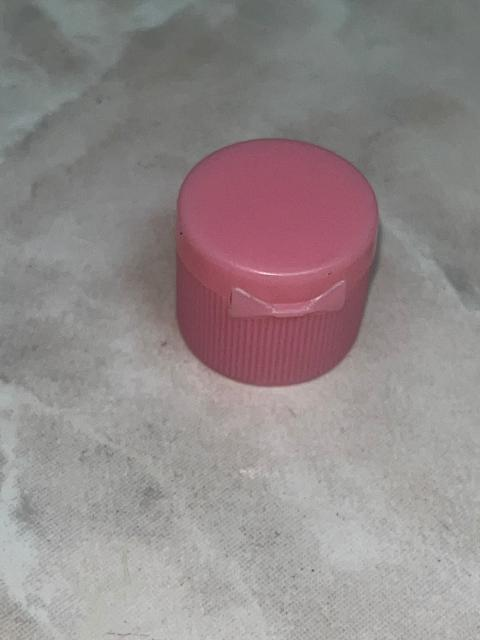HDPE: (113, 90, 453, 435)
